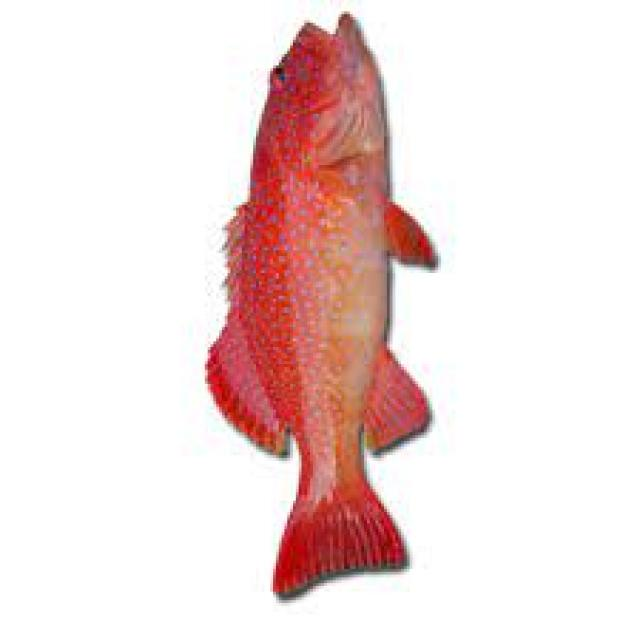Plectropomus-leopardus: (194, 9, 460, 603)
